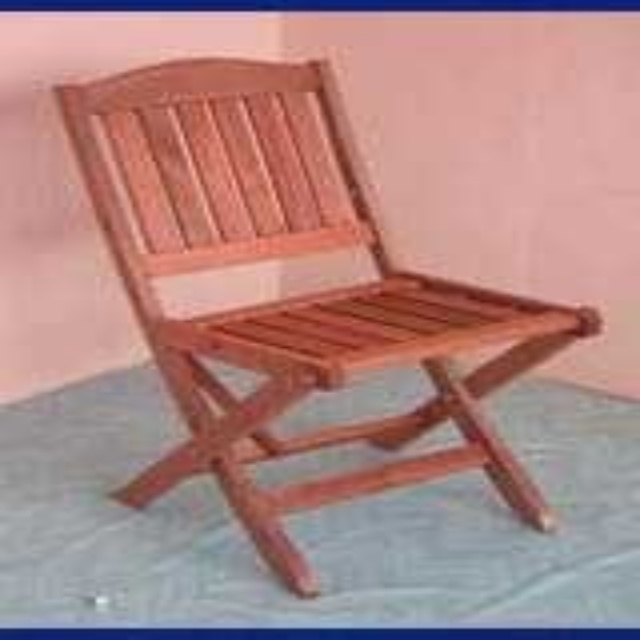obstacle: (60, 58, 600, 594)
